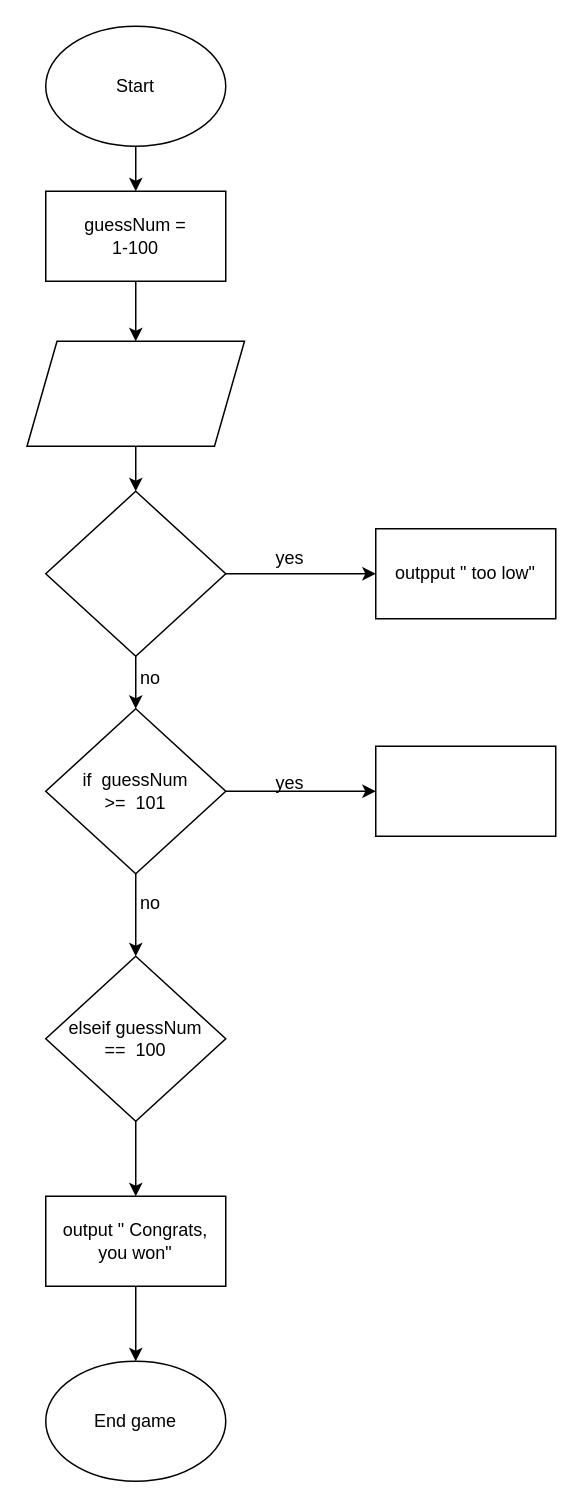
Some shapes in this 582 by 1508 pixel diagram are drawn without their labels. Here are the shapes that lost their labels. From the top down, the centre of each, then its label:
[135,393]: input " what's the guessing number ? "
[135,573]: while guessNum <= 99
[465,790]: outpput " too high"
